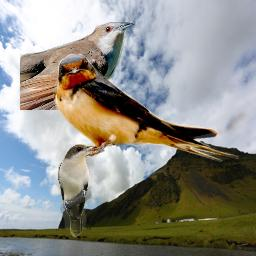Cuckoo: (20, 22, 135, 110), (58, 144, 97, 237)
Swallow: (51, 53, 239, 168)
